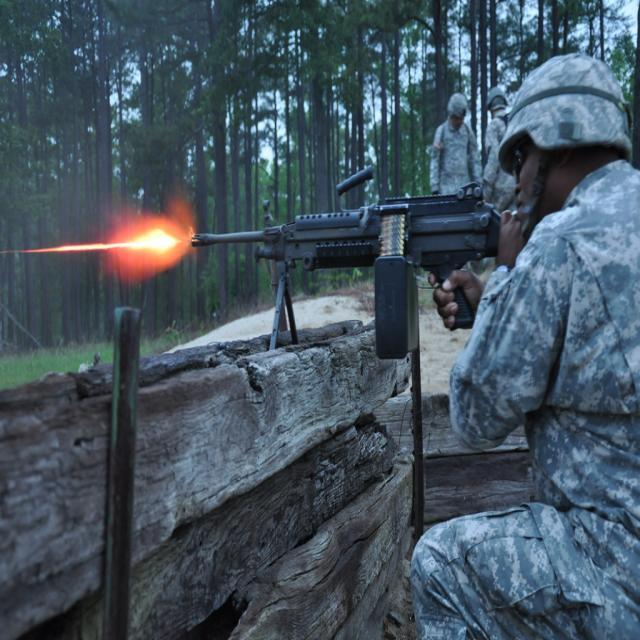weapon: (189, 166, 517, 327)
